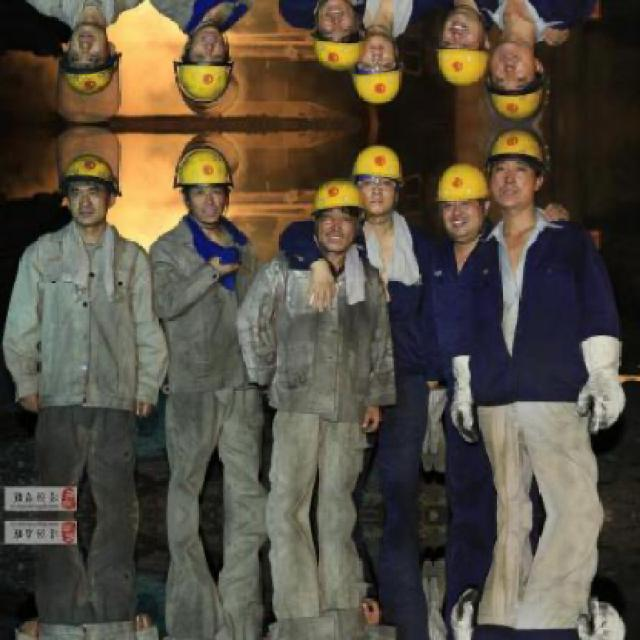con casco: (32, 131, 159, 247), (168, 135, 243, 256), (341, 132, 420, 222), (316, 178, 388, 276), (450, 146, 516, 250), (491, 124, 555, 206)
